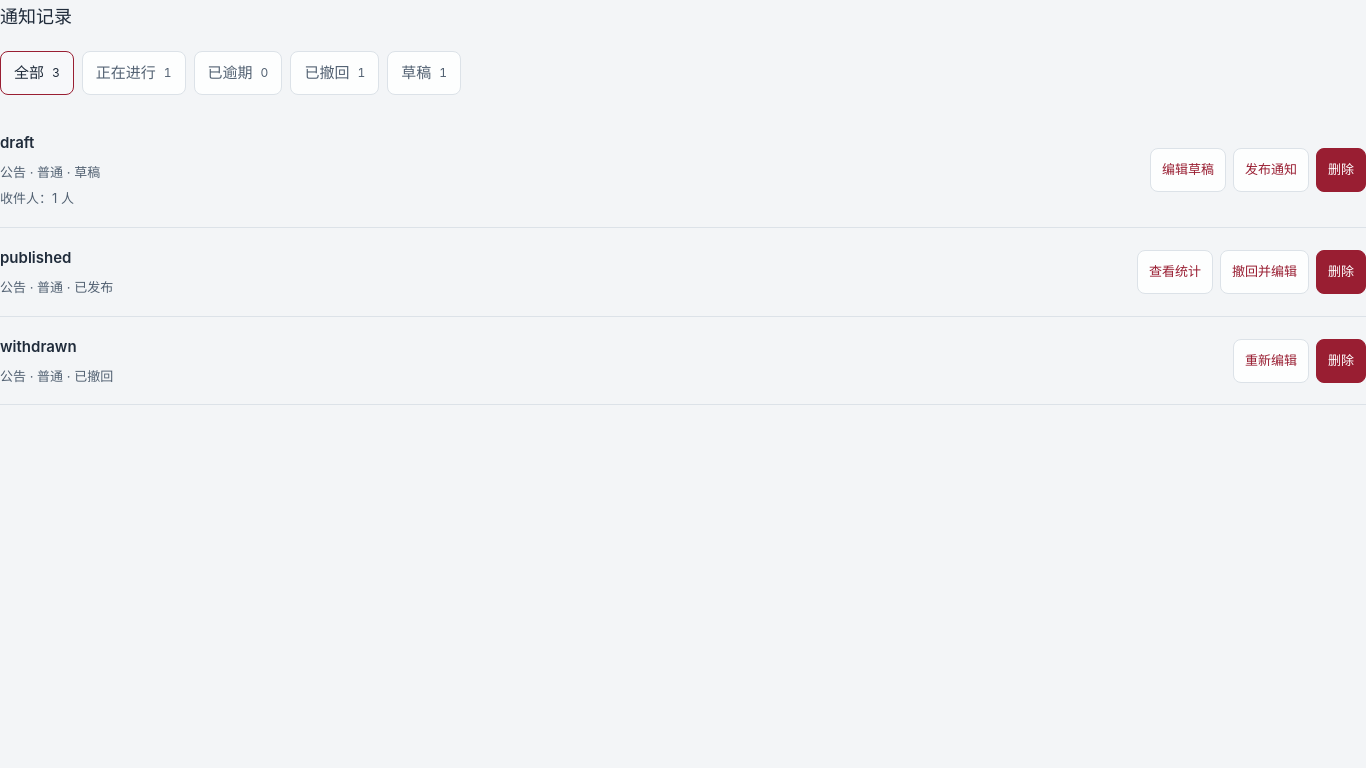
offers confirmed single deletion for every record status
Expected: the text "published" is shown, [0, 248, 71, 267]
Click the button "删除" in the row of "已发布": (1341, 272) [1316, 250, 1365, 294]
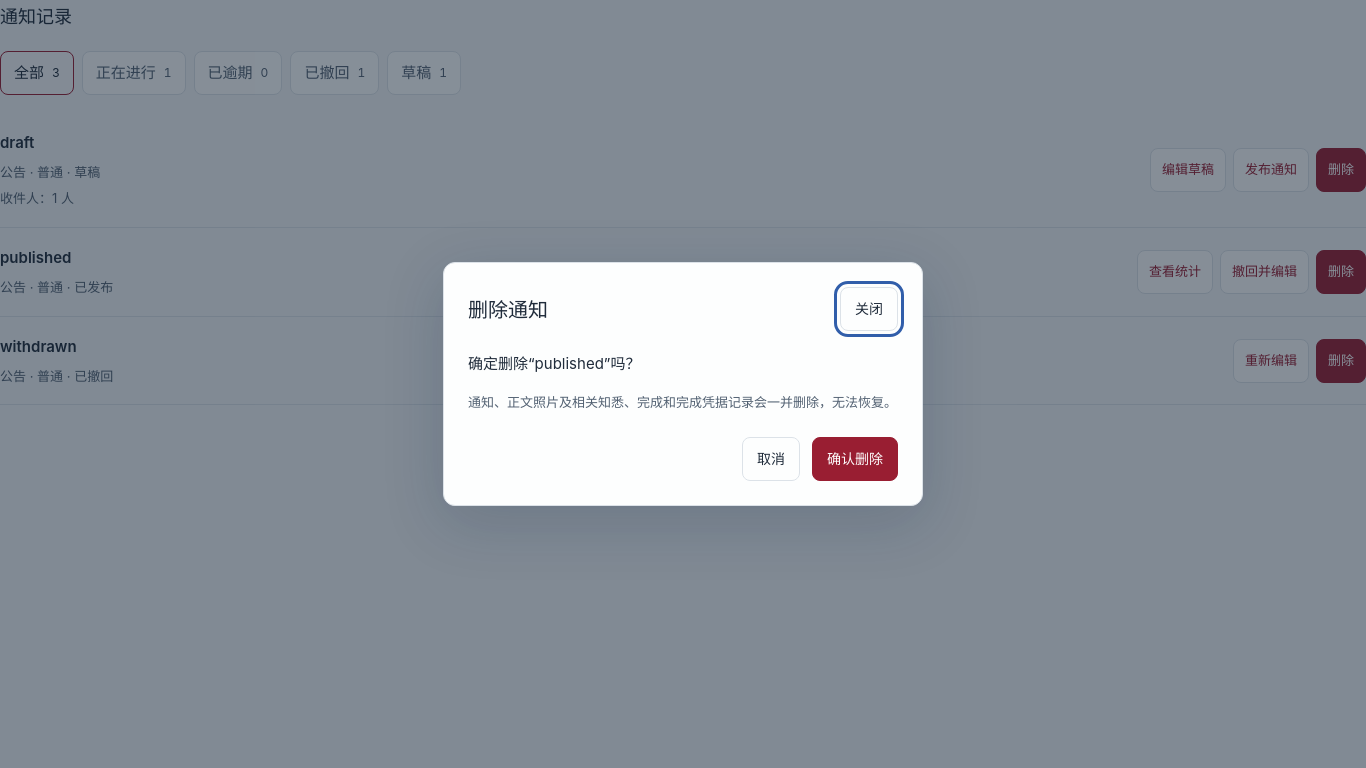
Click the button "确认删除": (855, 459) [812, 437, 898, 481]
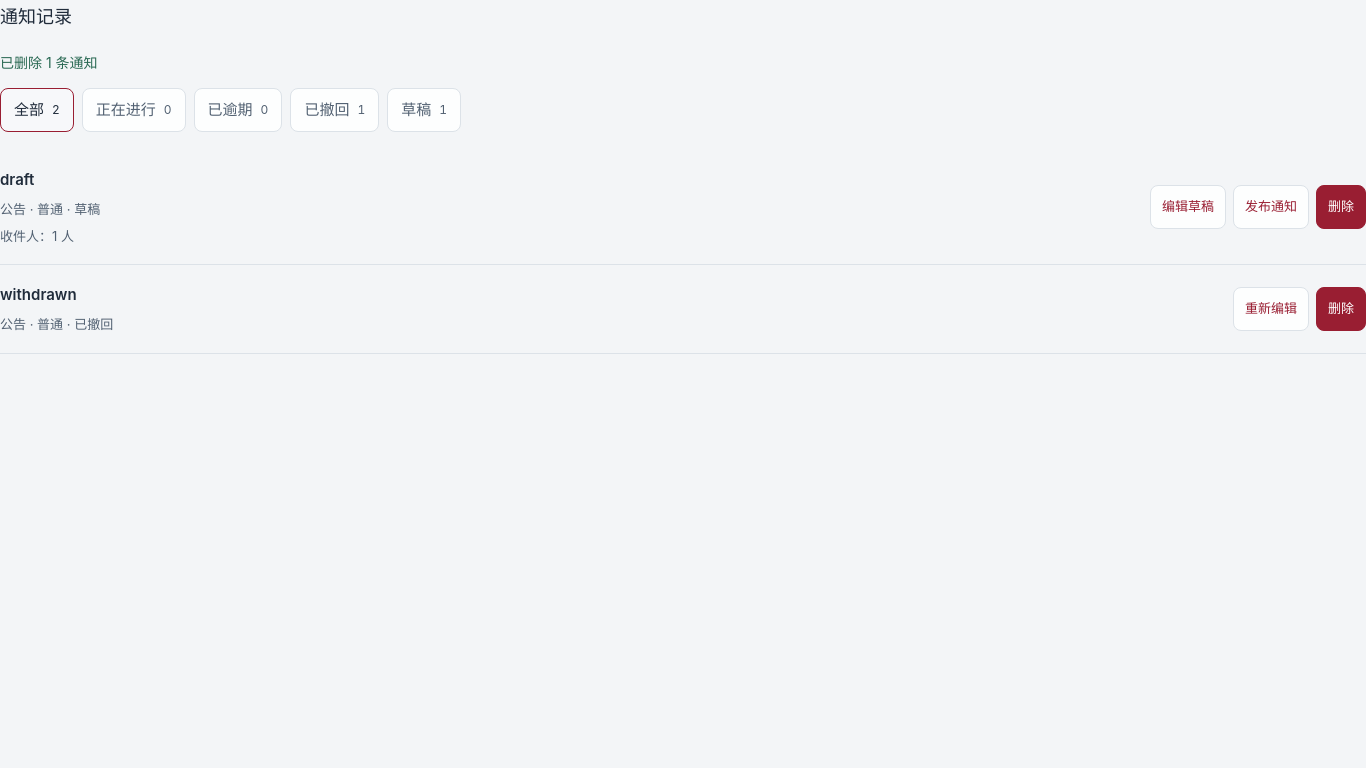
Expected: the text "已删除 1 条通知" is shown, [0, 51, 98, 74]
Expected: the text "published" is gone
